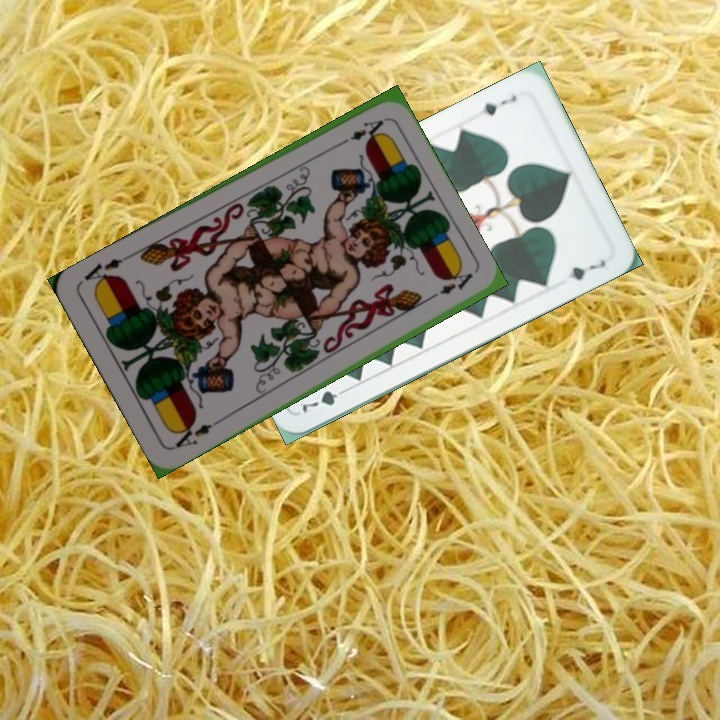EA: (169, 416, 223, 452), (333, 116, 386, 150)
G7: (296, 383, 352, 416), (478, 90, 520, 118)
